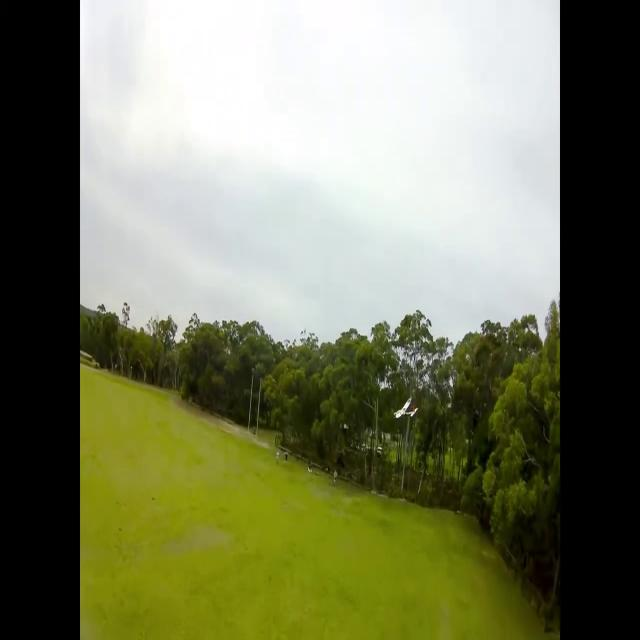iha: (394, 398, 418, 422)
